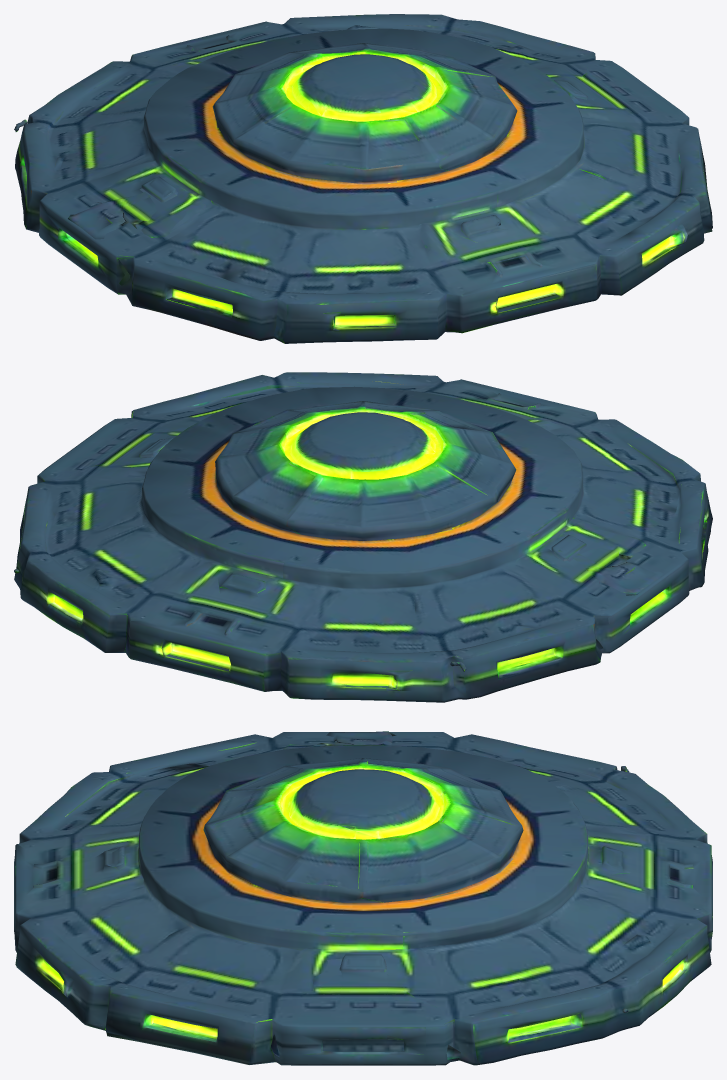
Rendered from nave-platillo.glb.
3 renders of one model, top to bottom at view 1: azimuth 30°, elevation 25°; view 2: azimuth 150°, elevation 25°; view 3: azimuth 270°, elevation 25°, orthographic. The views are drawn at different scales.
Size of the model in its own units: 1.91 by 0.5205 by 1.91.
Materials: 1 (1 with a texture image).
